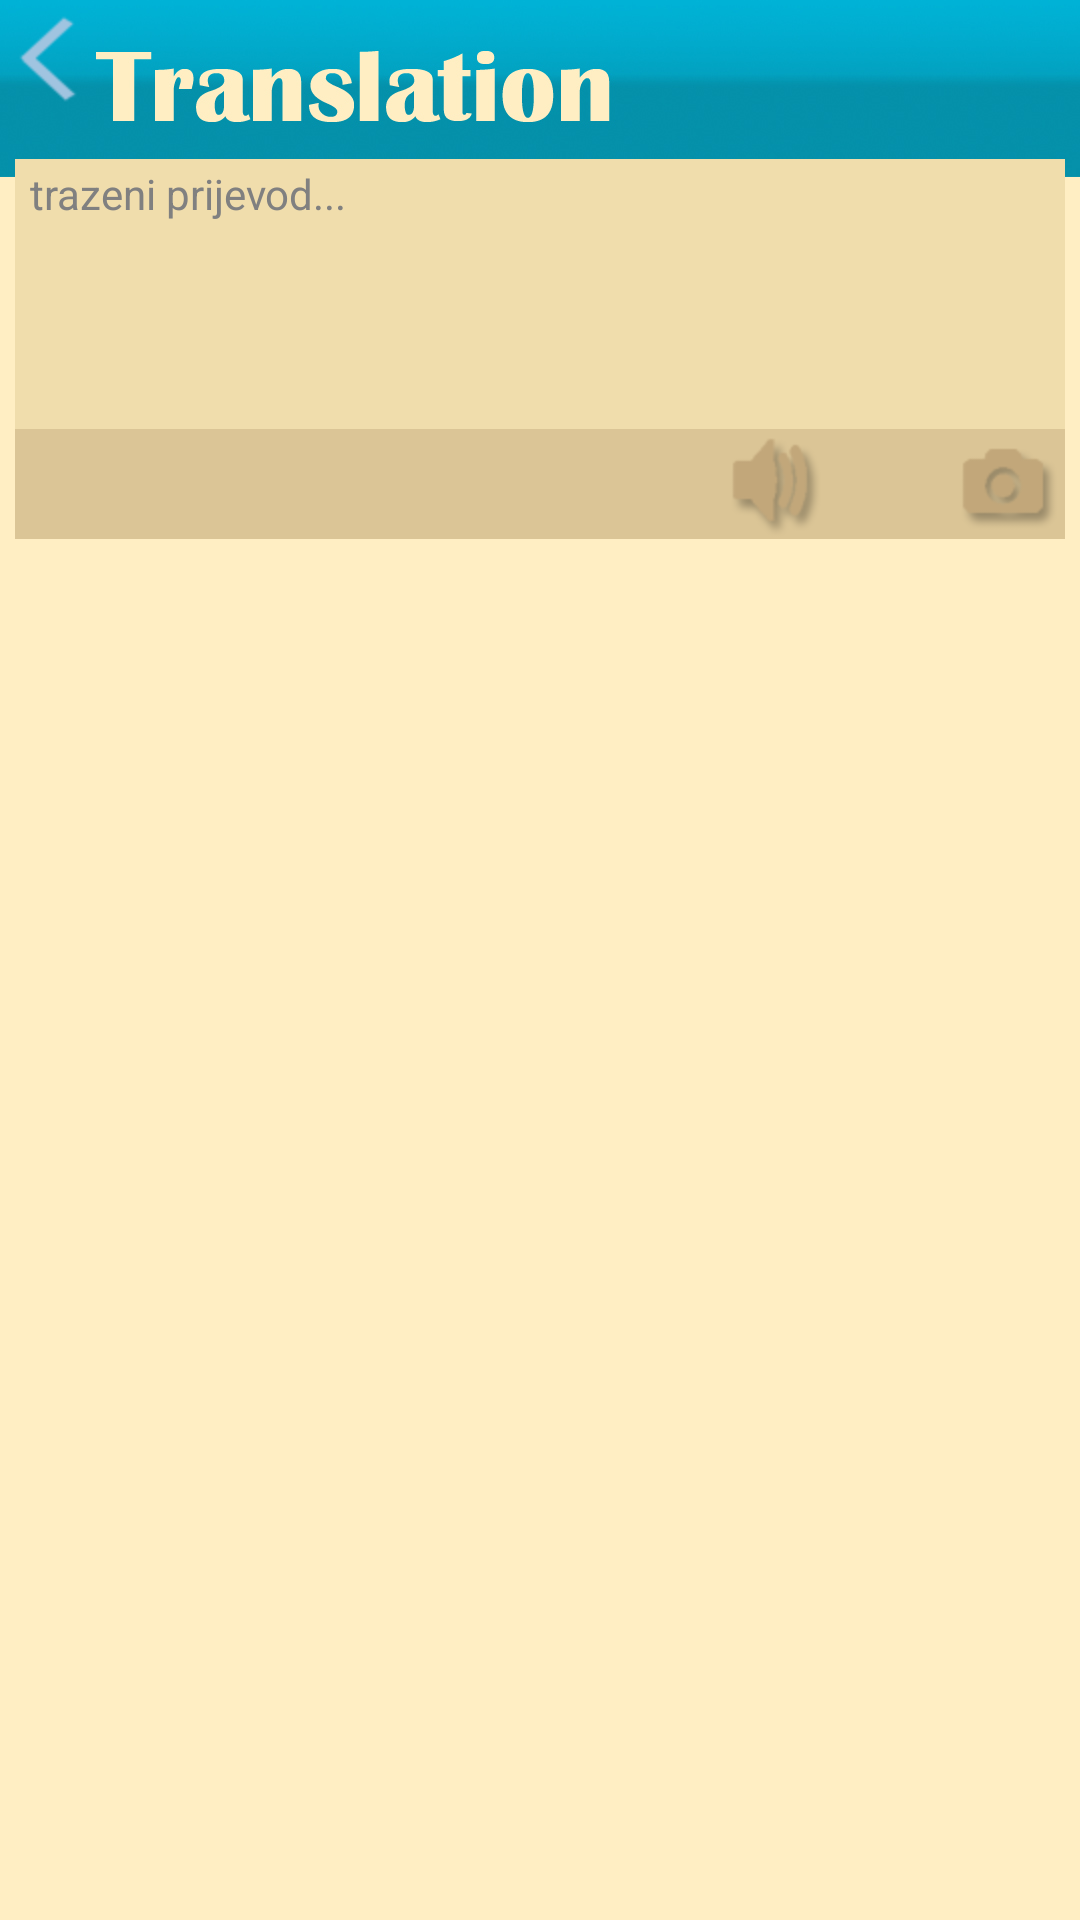

Where icons sit on this 1080*1920 app screen, as bbox=(x1, y1, x2, y2):
back: bbox=(0, 0, 144, 121)
cam: bbox=(964, 450, 1050, 522)
sound: bbox=(734, 440, 814, 528)
